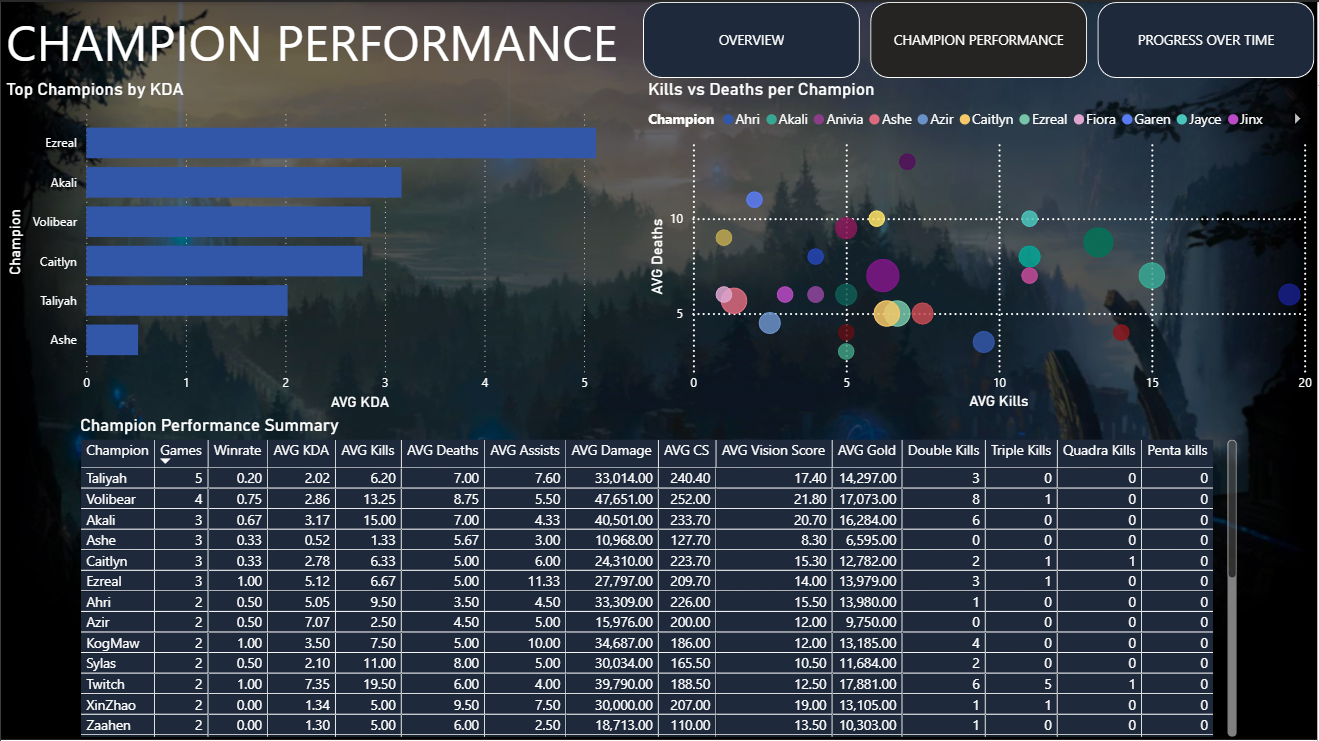

The page's visual inventory and layout, read from the dashboard file:
{"tool":"powerbi","page":{"name":"CHAMPION PERFORMANCE","canvas":[1280,720],"ordinal":1},"visuals":[{"type":"tableEx","title":"Champion Performance Summary","fields":{"Values":["analytics personal_champion_stats.champion_name","analytics personal_champion_stats.total_games","analytics personal_champion_stats.win_rate","analytics personal_champion_stats.avg_kda","analytics personal_champion_stats.avg_kills","analytics personal_champion_stats.avg_deaths","analytics personal_champion_stats.avg_assists","analytics personal_champion_stats.avg_damage","analytics personal_champion_stats.avg_cs","analytics personal_champion_stats.avg_vision_score","analytics personal_champion_stats.avg_gold"]},"box":[225.7,401.7,828.7,318.1],"z":0},{"type":"barChart","title":"Top Champions by KDA","fields":{"Category":["analytics personal_match_history.champion_name"],"Y":["analytics personal_match_history.AVG KDA"]},"box":[0,74.9,624.4,326.8],"z":1000},{"type":"scatterChart","title":"Kills vs Deaths per Champion","fields":{"X":["analytics personal_champion_stats.avg_kills"],"Y":["analytics personal_champion_stats.avg_deaths"],"Series":["analytics personal_champion_stats.champion_name"],"Size":["analytics personal_match_history.Total Gmes"]},"box":[624.4,74.9,655.6,326.8],"z":2000},{"type":"textbox","box":[0,0,624.4,74.9],"z":3000},{"type":"pageNavigator","box":[624.4,0,655.6,74.9],"z":4000}]}

Visuals, with their boxes in screenshot pixels (x1, y1, x2, y2), scaled from the page's 1280x720 canvas onto the 1319x741 screenshot:
"Champion Performance Summary" tableEx: <bbox>233, 413, 1087, 740</bbox>
"Top Champions by KDA" barChart: <bbox>0, 77, 643, 413</bbox>
"Kills vs Deaths per Champion" scatterChart: <bbox>643, 77, 1318, 413</bbox>
textbox: <bbox>0, 0, 643, 77</bbox>
pageNavigator: <bbox>643, 0, 1318, 77</bbox>
